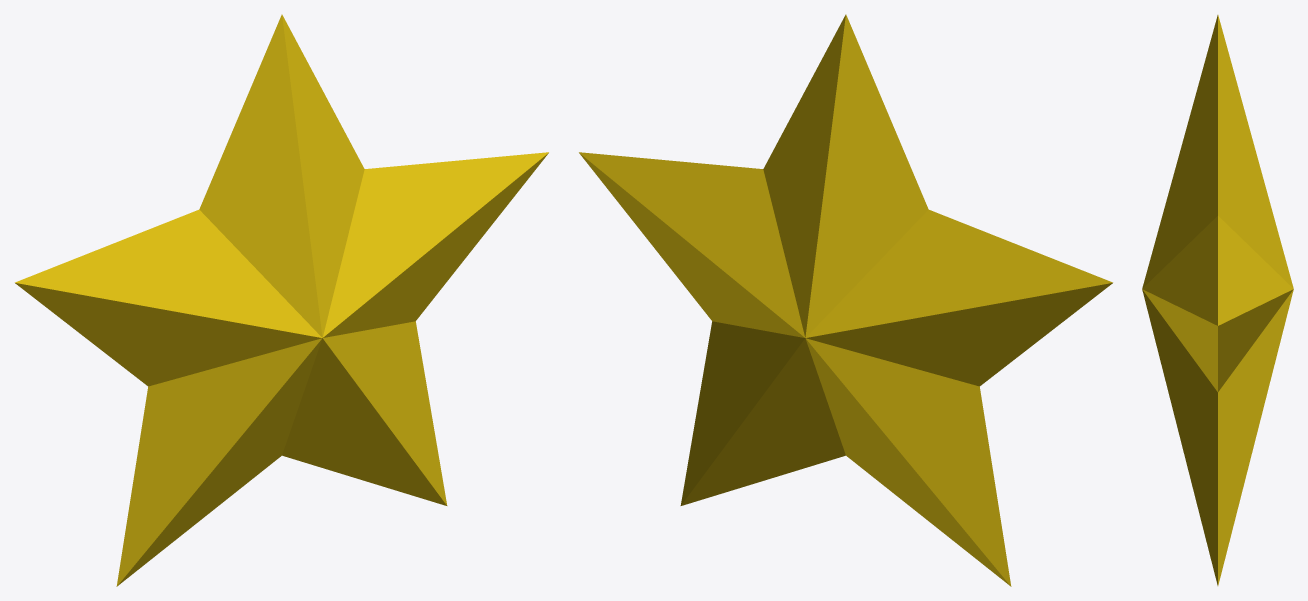
Rendered from star.glb.
The picture shows the model from 3 angles, left to right: view 1: azimuth 30°, elevation 25°; view 2: azimuth 150°, elevation 25°; view 3: azimuth 270°, elevation 25°; orthographic projection. The views are drawn at different scales.
Parts seen in each view (by area): view 1: Star; view 2: Star; view 3: Star.
Part boxes in pixels (x1,y1,x2,y2): Star: [15, 14, 548, 586]; Star: [579, 14, 1112, 586]; Star: [1142, 15, 1293, 585].
Size of the model in its own units: 1.9 by 1.81 by 0.5.
